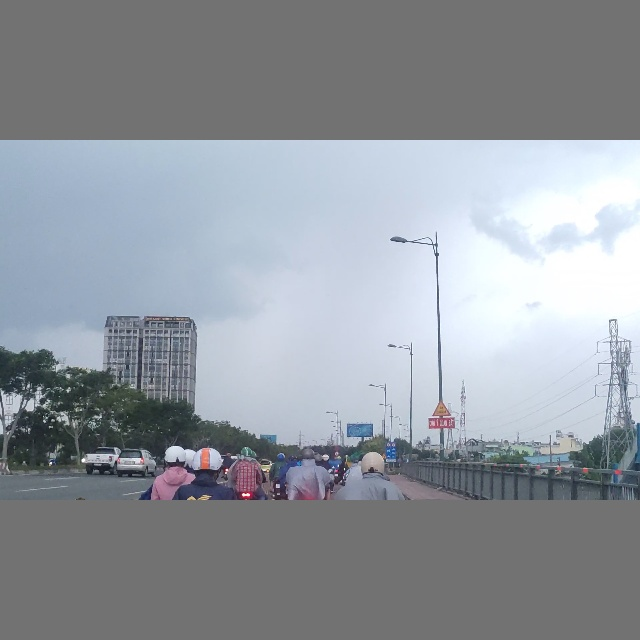W.245a: (431, 400, 451, 417)
